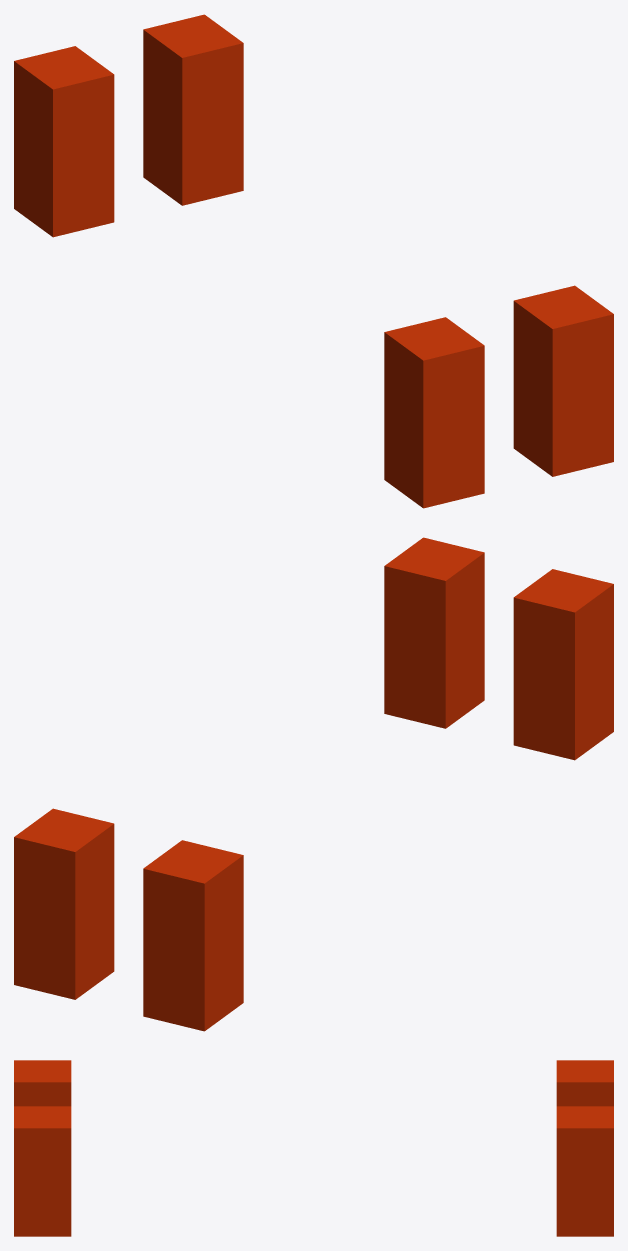
The model's file is FlashMagnetCoilX.gltf.
3 views of the same model, one above another, from view 1: azimuth 30°, elevation 25°; view 2: azimuth 150°, elevation 25°; view 3: azimuth 270°, elevation 25° (orthographic). The views are drawn at different scales.
Parts seen in each view (by area): view 1: logicFlashMagnetCoilX_pv0x221c470, logicFlashMagnetCoilX_pv0x221c4a8, logicFlashMagnetCoilX_pv0x221c6a0, logicFlashMagnetCoilX_pv0x221c6d8; view 2: logicFlashMagnetCoilX_pv0x221c470, logicFlashMagnetCoilX_pv0x221c4a8, logicFlashMagnetCoilX_pv0x221c6a0, logicFlashMagnetCoilX_pv0x221c6d8; view 3: logicFlashMagnetCoilX_pv0x221c6a0, logicFlashMagnetCoilX_pv0x221c6d8, logicFlashMagnetCoilX_pv0x221c470, logicFlashMagnetCoilX_pv0x221c4a8.
Part boxes in pixels (bbox=[...]): logicFlashMagnetCoilX_pv0x221c470: bbox=[384, 317, 484, 508]; logicFlashMagnetCoilX_pv0x221c4a8: bbox=[14, 46, 114, 237]; logicFlashMagnetCoilX_pv0x221c6a0: bbox=[513, 285, 613, 476]; logicFlashMagnetCoilX_pv0x221c6d8: bbox=[143, 14, 243, 205]; logicFlashMagnetCoilX_pv0x221c470: bbox=[513, 569, 613, 760]; logicFlashMagnetCoilX_pv0x221c4a8: bbox=[143, 840, 243, 1031]; logicFlashMagnetCoilX_pv0x221c6a0: bbox=[384, 537, 484, 728]; logicFlashMagnetCoilX_pv0x221c6d8: bbox=[14, 808, 114, 999]; logicFlashMagnetCoilX_pv0x221c6a0: bbox=[14, 1106, 71, 1236]; logicFlashMagnetCoilX_pv0x221c6d8: bbox=[556, 1106, 613, 1236]; logicFlashMagnetCoilX_pv0x221c470: bbox=[14, 1060, 71, 1106]; logicFlashMagnetCoilX_pv0x221c4a8: bbox=[556, 1060, 613, 1106].
Bounding box in the file's own units: 31.03 × 23 × 115.
